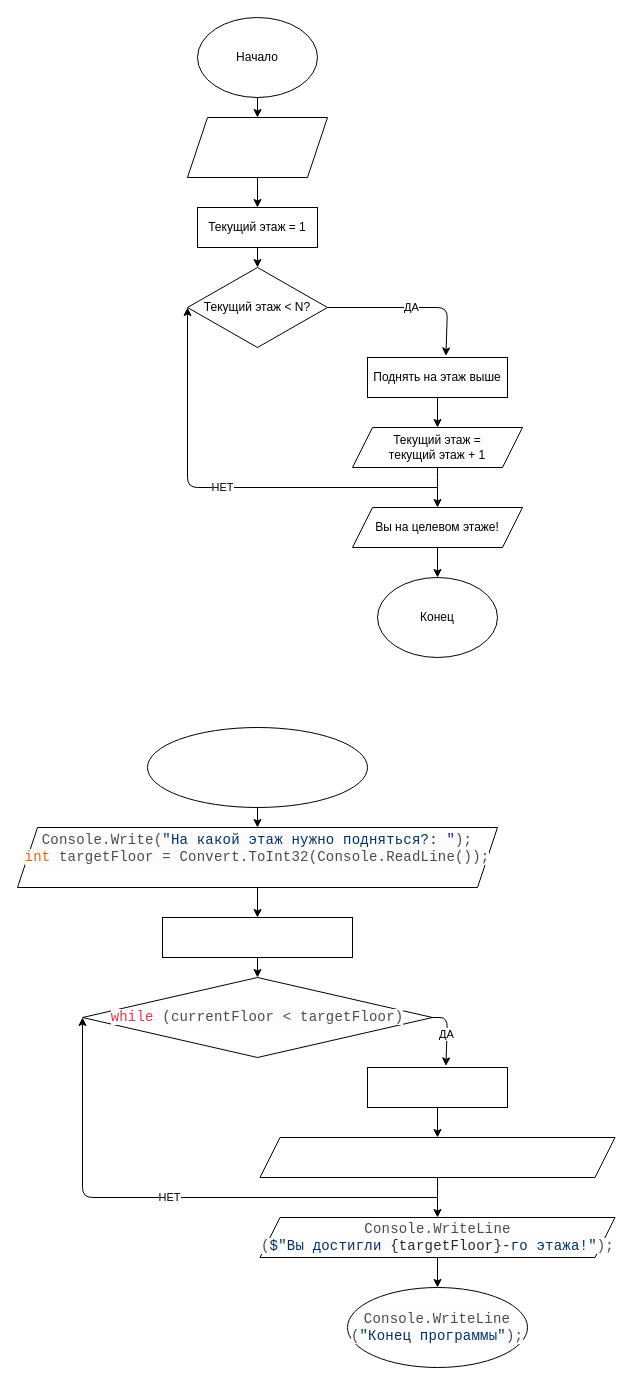
This 633x1385 diagram has some shape labels left out. Here are the shapes that lost their labels. From the top down, the centre of each, then its label:
point (257, 147): Ввод: целевой этаж (N)
point (257, 767): Console.WriteLine ( "Подъём по лестнице" );
point (257, 937): int currentFloor = 1 ;
point (437, 1087): currentFloor++;
point (437, 1157): Console.WriteLine ( $"Поднялись на {currentFloor} -й этаж" );
